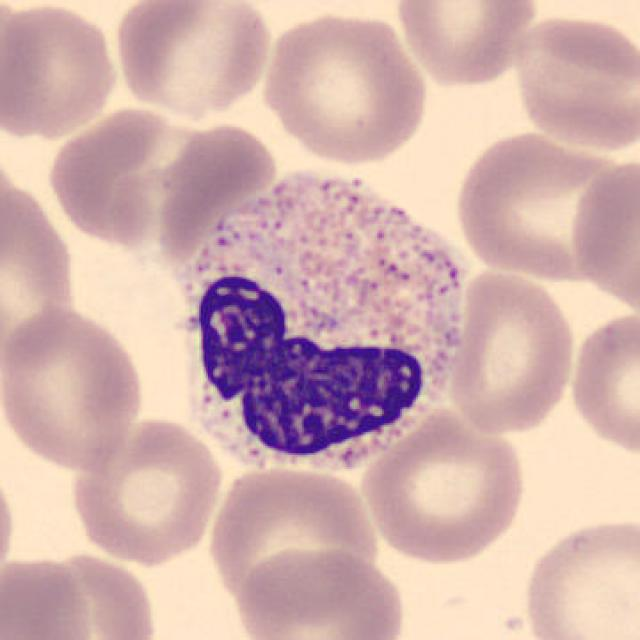Neutrophil: (165, 144, 480, 493)
RBC: (448, 127, 628, 284), (356, 404, 530, 566), (258, 7, 432, 169), (203, 462, 384, 617), (43, 102, 222, 254), (2, 302, 149, 476), (66, 413, 226, 566), (441, 264, 578, 438), (110, 0, 275, 123), (508, 11, 638, 155), (231, 543, 411, 640), (2, 0, 122, 143), (518, 513, 638, 640), (391, 0, 541, 90), (567, 152, 640, 326), (565, 305, 640, 462), (0, 552, 98, 640), (0, 455, 20, 592)
